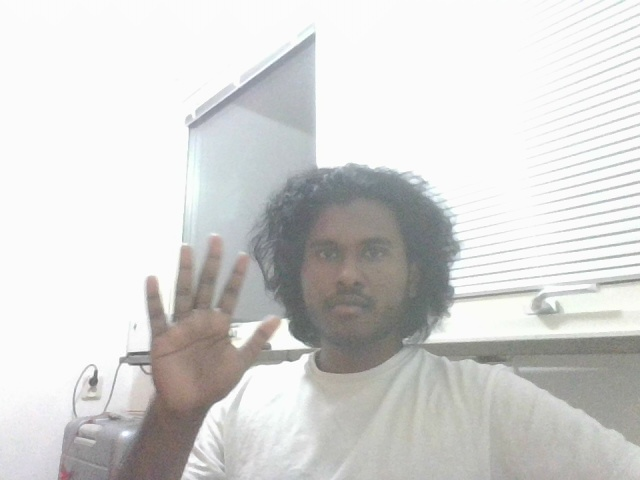hello: (129, 229, 288, 422)
